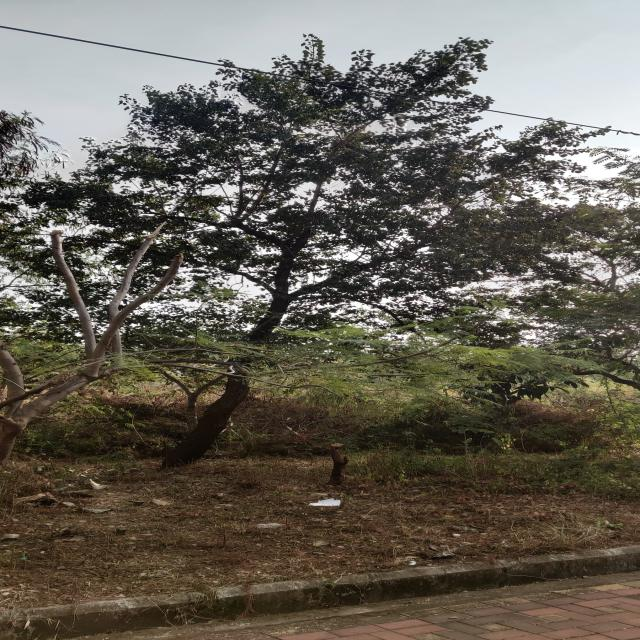Devakanchan tree: (26, 54, 566, 483)
